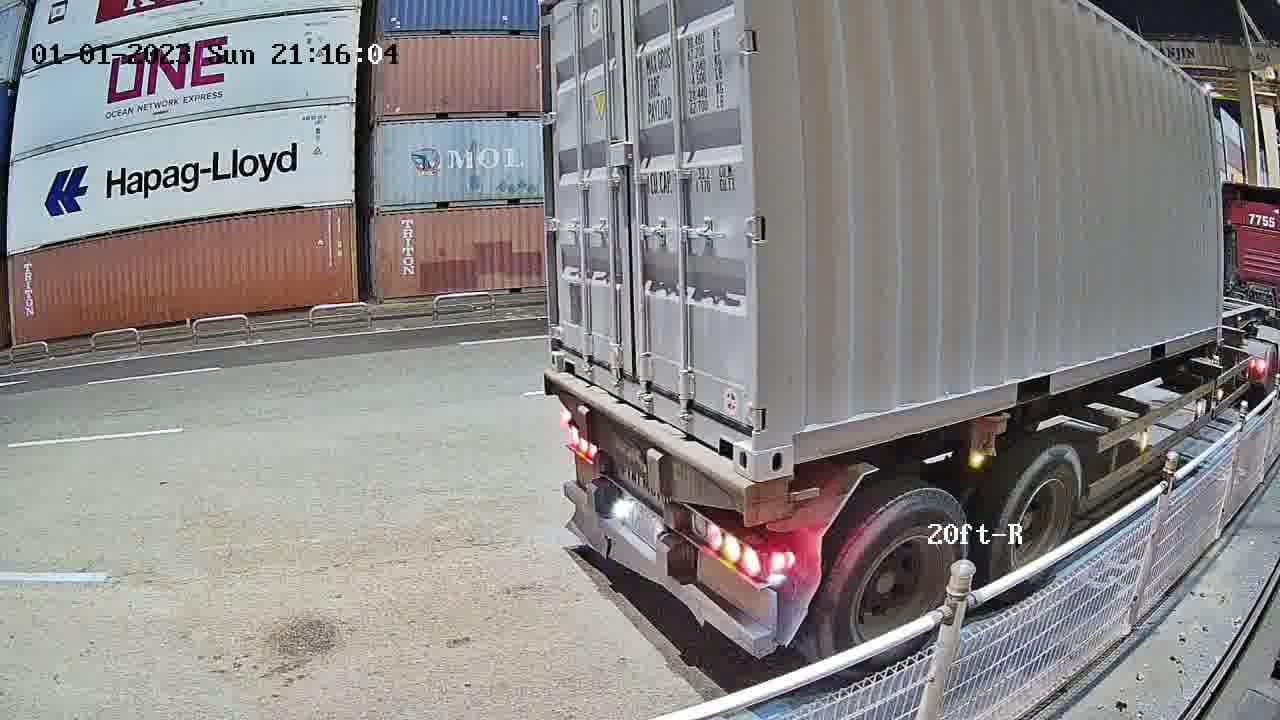Chassis: (545, 373, 750, 523)
Cone: (752, 470, 802, 519)
Hole_L: (757, 389, 834, 480), (548, 321, 582, 380)
Hole_R: (705, 384, 757, 480)
Tire: (823, 488, 966, 653), (992, 459, 1081, 579)
